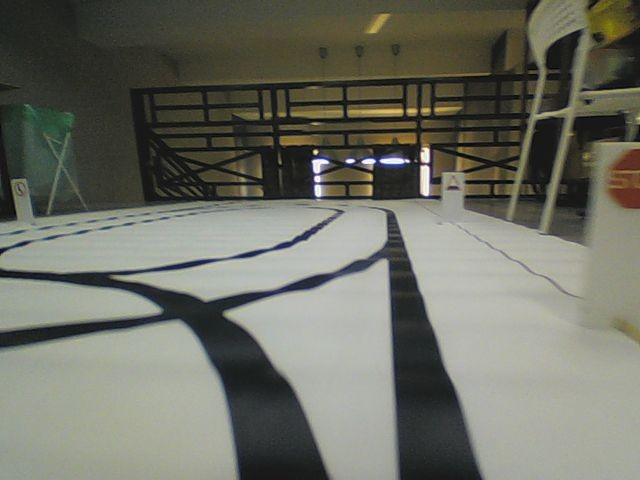Nerov: (444, 174, 460, 192)
